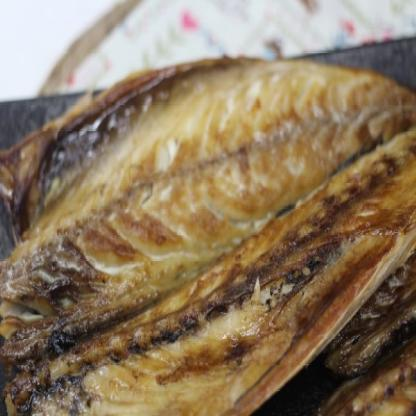Peixe: (2, 58, 416, 416)
